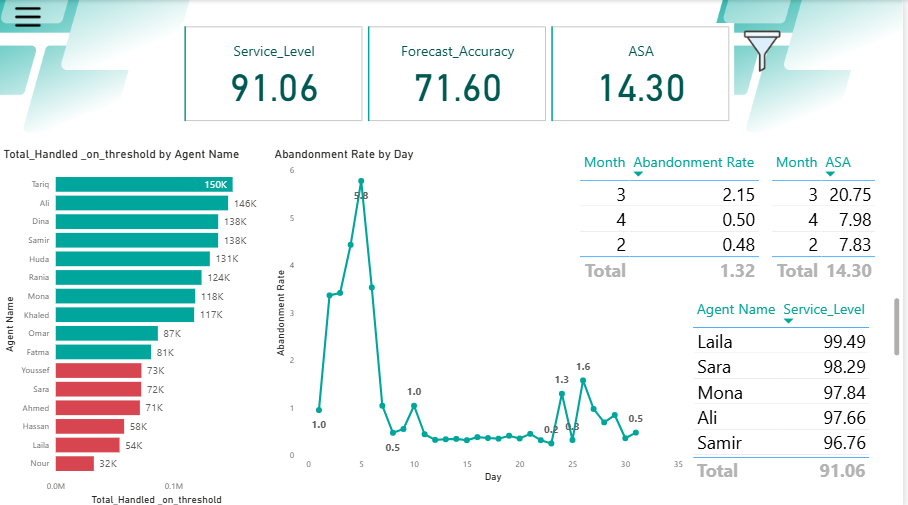

What the dashboard file says about the page in this screenshot:
{"tool":"powerbi","page":{"name":"Customer","canvas":[1280,720],"ordinal":4},"visuals":[{"type":"image","box":[16,0,48,48],"z":0},{"type":"barChart","fields":{"Y":["DAX.Total_Handled _on_threshold"],"Category":["Sallah_3Month.Agent Name"]},"box":[0,208,384,512],"z":1000},{"type":"cardVisual","fields":{"Data":["DAX.Service_Level","DAX.Forecast_Accuracy","DAX.ASA"]},"box":[256,32,784,144],"z":2000},{"type":"tableEx","fields":{"Values":["Sallah_3Month.Month","DAX.ASA"]},"box":[1088,208,192,208],"z":3000},{"type":"tableEx","fields":{"Values":["Sallah_3Month.Agent Name","DAX.Service_Level"]},"box":[976,416,304,272],"z":4000},{"type":"image","box":[1040,32,80,80],"z":6000},{"type":"lineChart","fields":{"Y":["Dax.Abandonment Rate"],"Category":["Sallah_3Month.Date.Variation.Date Hierarchy.Day"]},"box":[384,208,592,480],"z":8000},{"type":"tableEx","fields":{"Values":["Sallah_3Month.Month","DAX.Abandonment Rate"]},"box":[816,208,272,208],"z":8001}]}

Visuals, with their boxes in screenshot pixels (x1, y1, x2, y2), scaled from the page's 1280x720 canvas onto the 908x505 screenshot:
image: 11/0/45/34
barChart - DAX.Total_Handled _on_threshold x Sallah_3Month.Agent Name: 0/146/272/504
cardVisual - DAX.Service_Level x DAX.Forecast_Accuracy: 182/22/738/123
tableEx - Sallah_3Month.Month x DAX.ASA: 772/146/907/292
tableEx - Sallah_3Month.Agent Name x DAX.Service_Level: 692/292/907/483
image: 738/22/794/79
lineChart - Dax.Abandonment Rate x Sallah_3Month.Date.Variation.Date Hierarchy.Day: 272/146/692/483
tableEx - Sallah_3Month.Month x DAX.Abandonment Rate: 579/146/772/292
